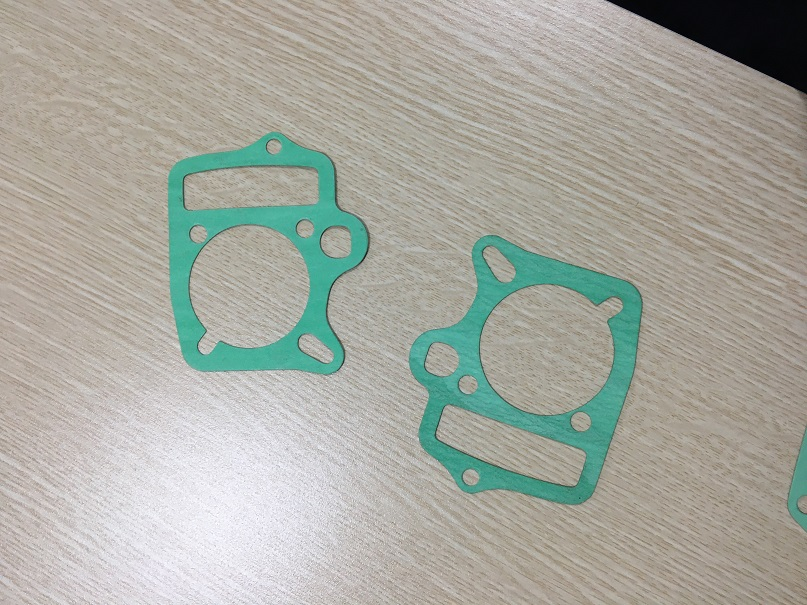type4: (393, 231, 665, 521), (151, 124, 373, 384)
